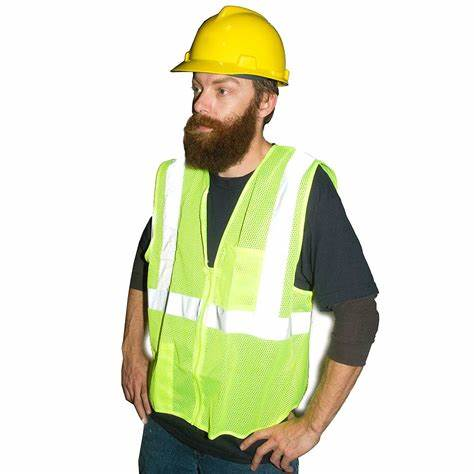Helmet: (166, 4, 297, 174)
Reflective vest: (146, 147, 336, 435)
